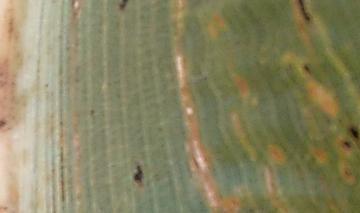tarspot: (297, 1, 311, 21), (134, 164, 143, 183), (350, 126, 360, 138), (342, 139, 352, 149), (302, 63, 311, 74), (119, 1, 128, 11), (342, 168, 351, 177), (1, 118, 7, 129), (42, 81, 50, 88), (336, 116, 343, 123), (89, 107, 95, 115)
